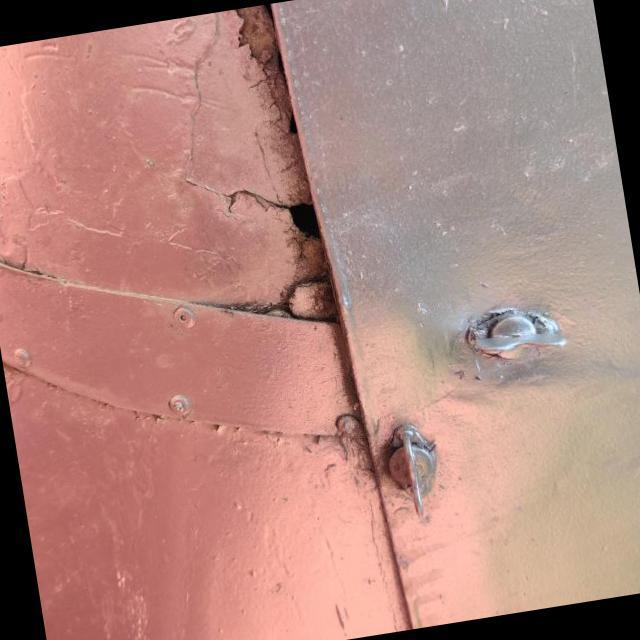Rupture: (195, 145, 332, 271)
